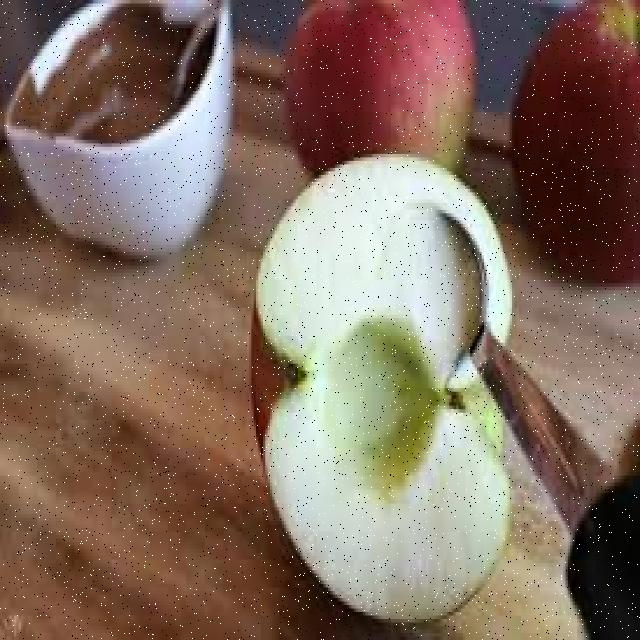Apple: (252, 148, 512, 617)
